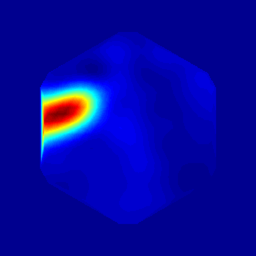ship: (94, 87, 120, 110)
wave: (47, 87, 99, 124)
